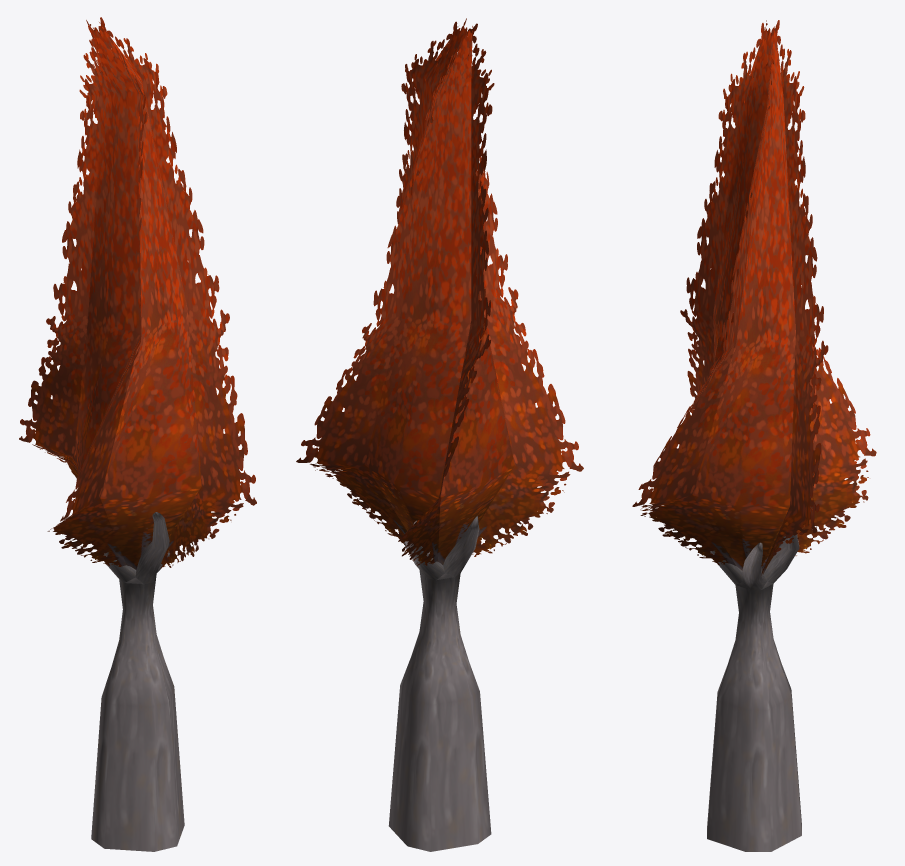
File: tree_cypressRedA.fbx
3 renders of one model, left to right at view 1: azimuth 30°, elevation 25°; view 2: azimuth 150°, elevation 25°; view 3: azimuth 270°, elevation 25°, orthographic. The views are drawn at different scales.
Parts seen in each view (by area): view 1: tree_cypress_redA; view 2: tree_cypress_redA; view 3: tree_cypress_redA.
Part boxes in pixels (x1,y1,x2,y2): tree_cypress_redA: [19, 17, 256, 851]; tree_cypress_redA: [296, 18, 583, 851]; tree_cypress_redA: [632, 20, 876, 851].
Size of the model in its own units: 349 by 1123 by 349.
Materials: 2 (2 with a texture image).
